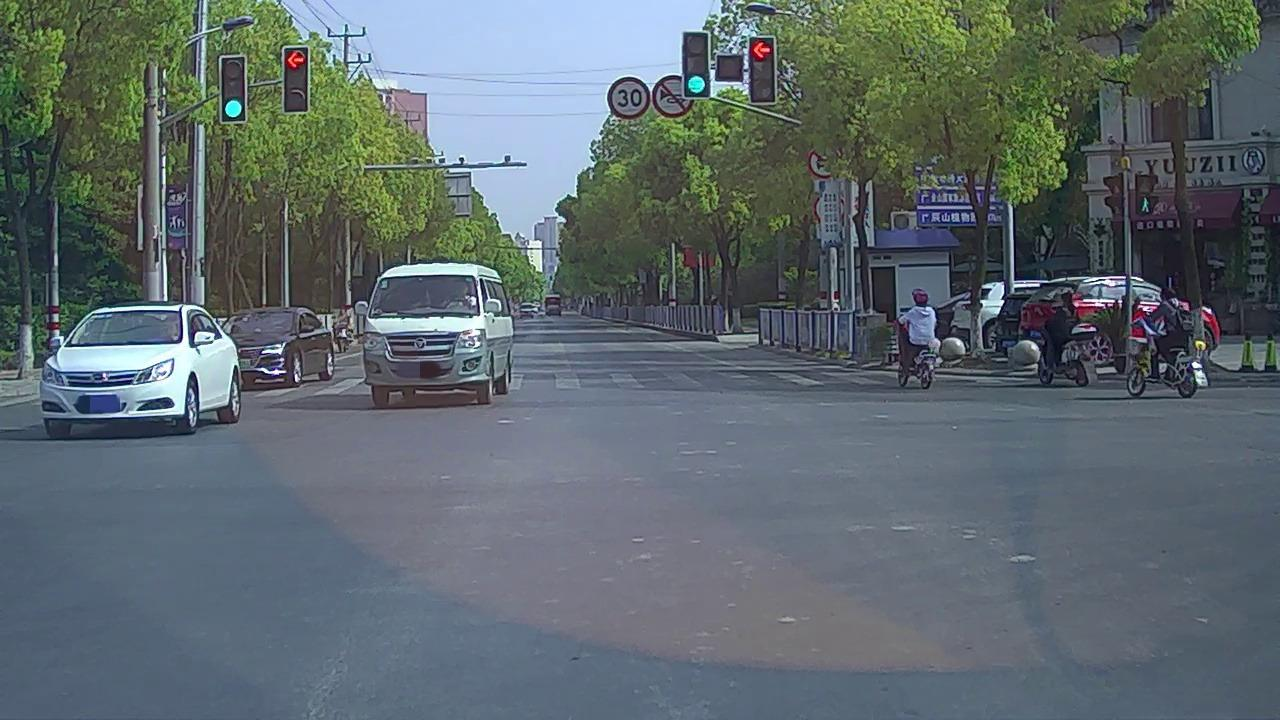traffic_light: (749, 35, 776, 102), (220, 54, 246, 122), (284, 46, 308, 112), (685, 30, 709, 96)
